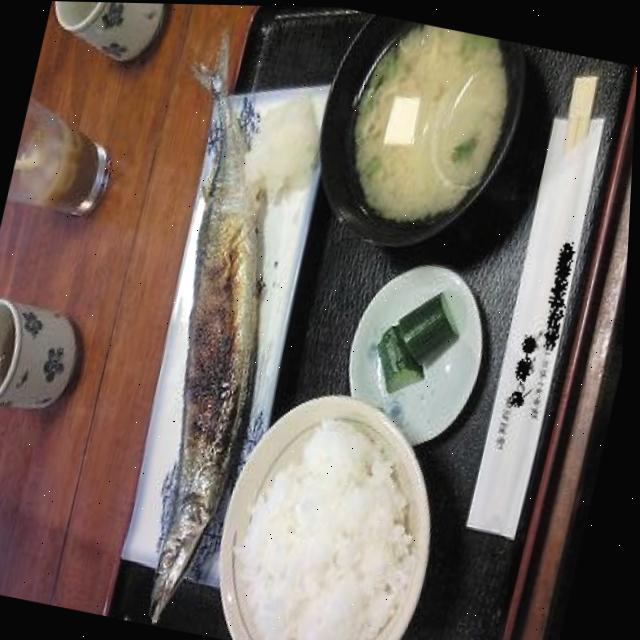米饭主食: (194, 368, 480, 640)
